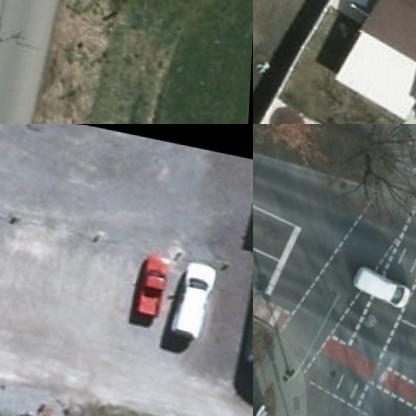car: (173, 252, 221, 336), (345, 260, 413, 305)
pickup: (138, 247, 172, 315)
